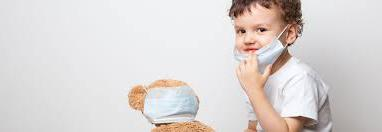mask_weared_incorrect: (232, 18, 276, 68)
